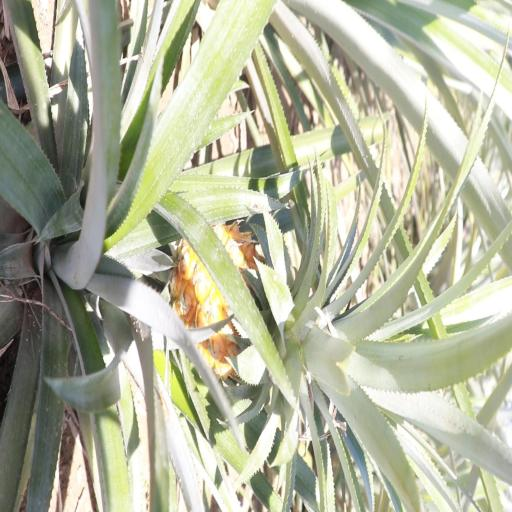Pineapple - v8 v1: (174, 214, 397, 395)
